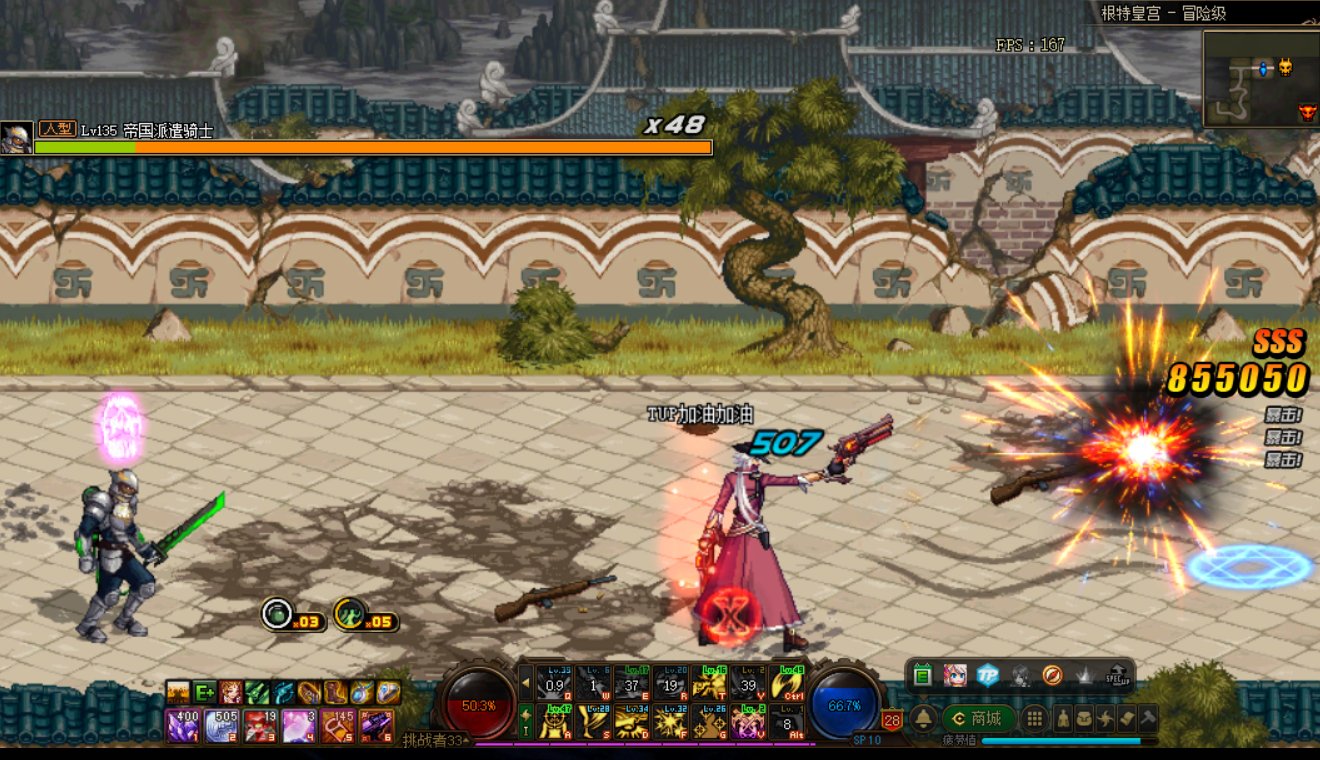monster: (63, 474, 235, 645)
warrior: (671, 414, 904, 649)
